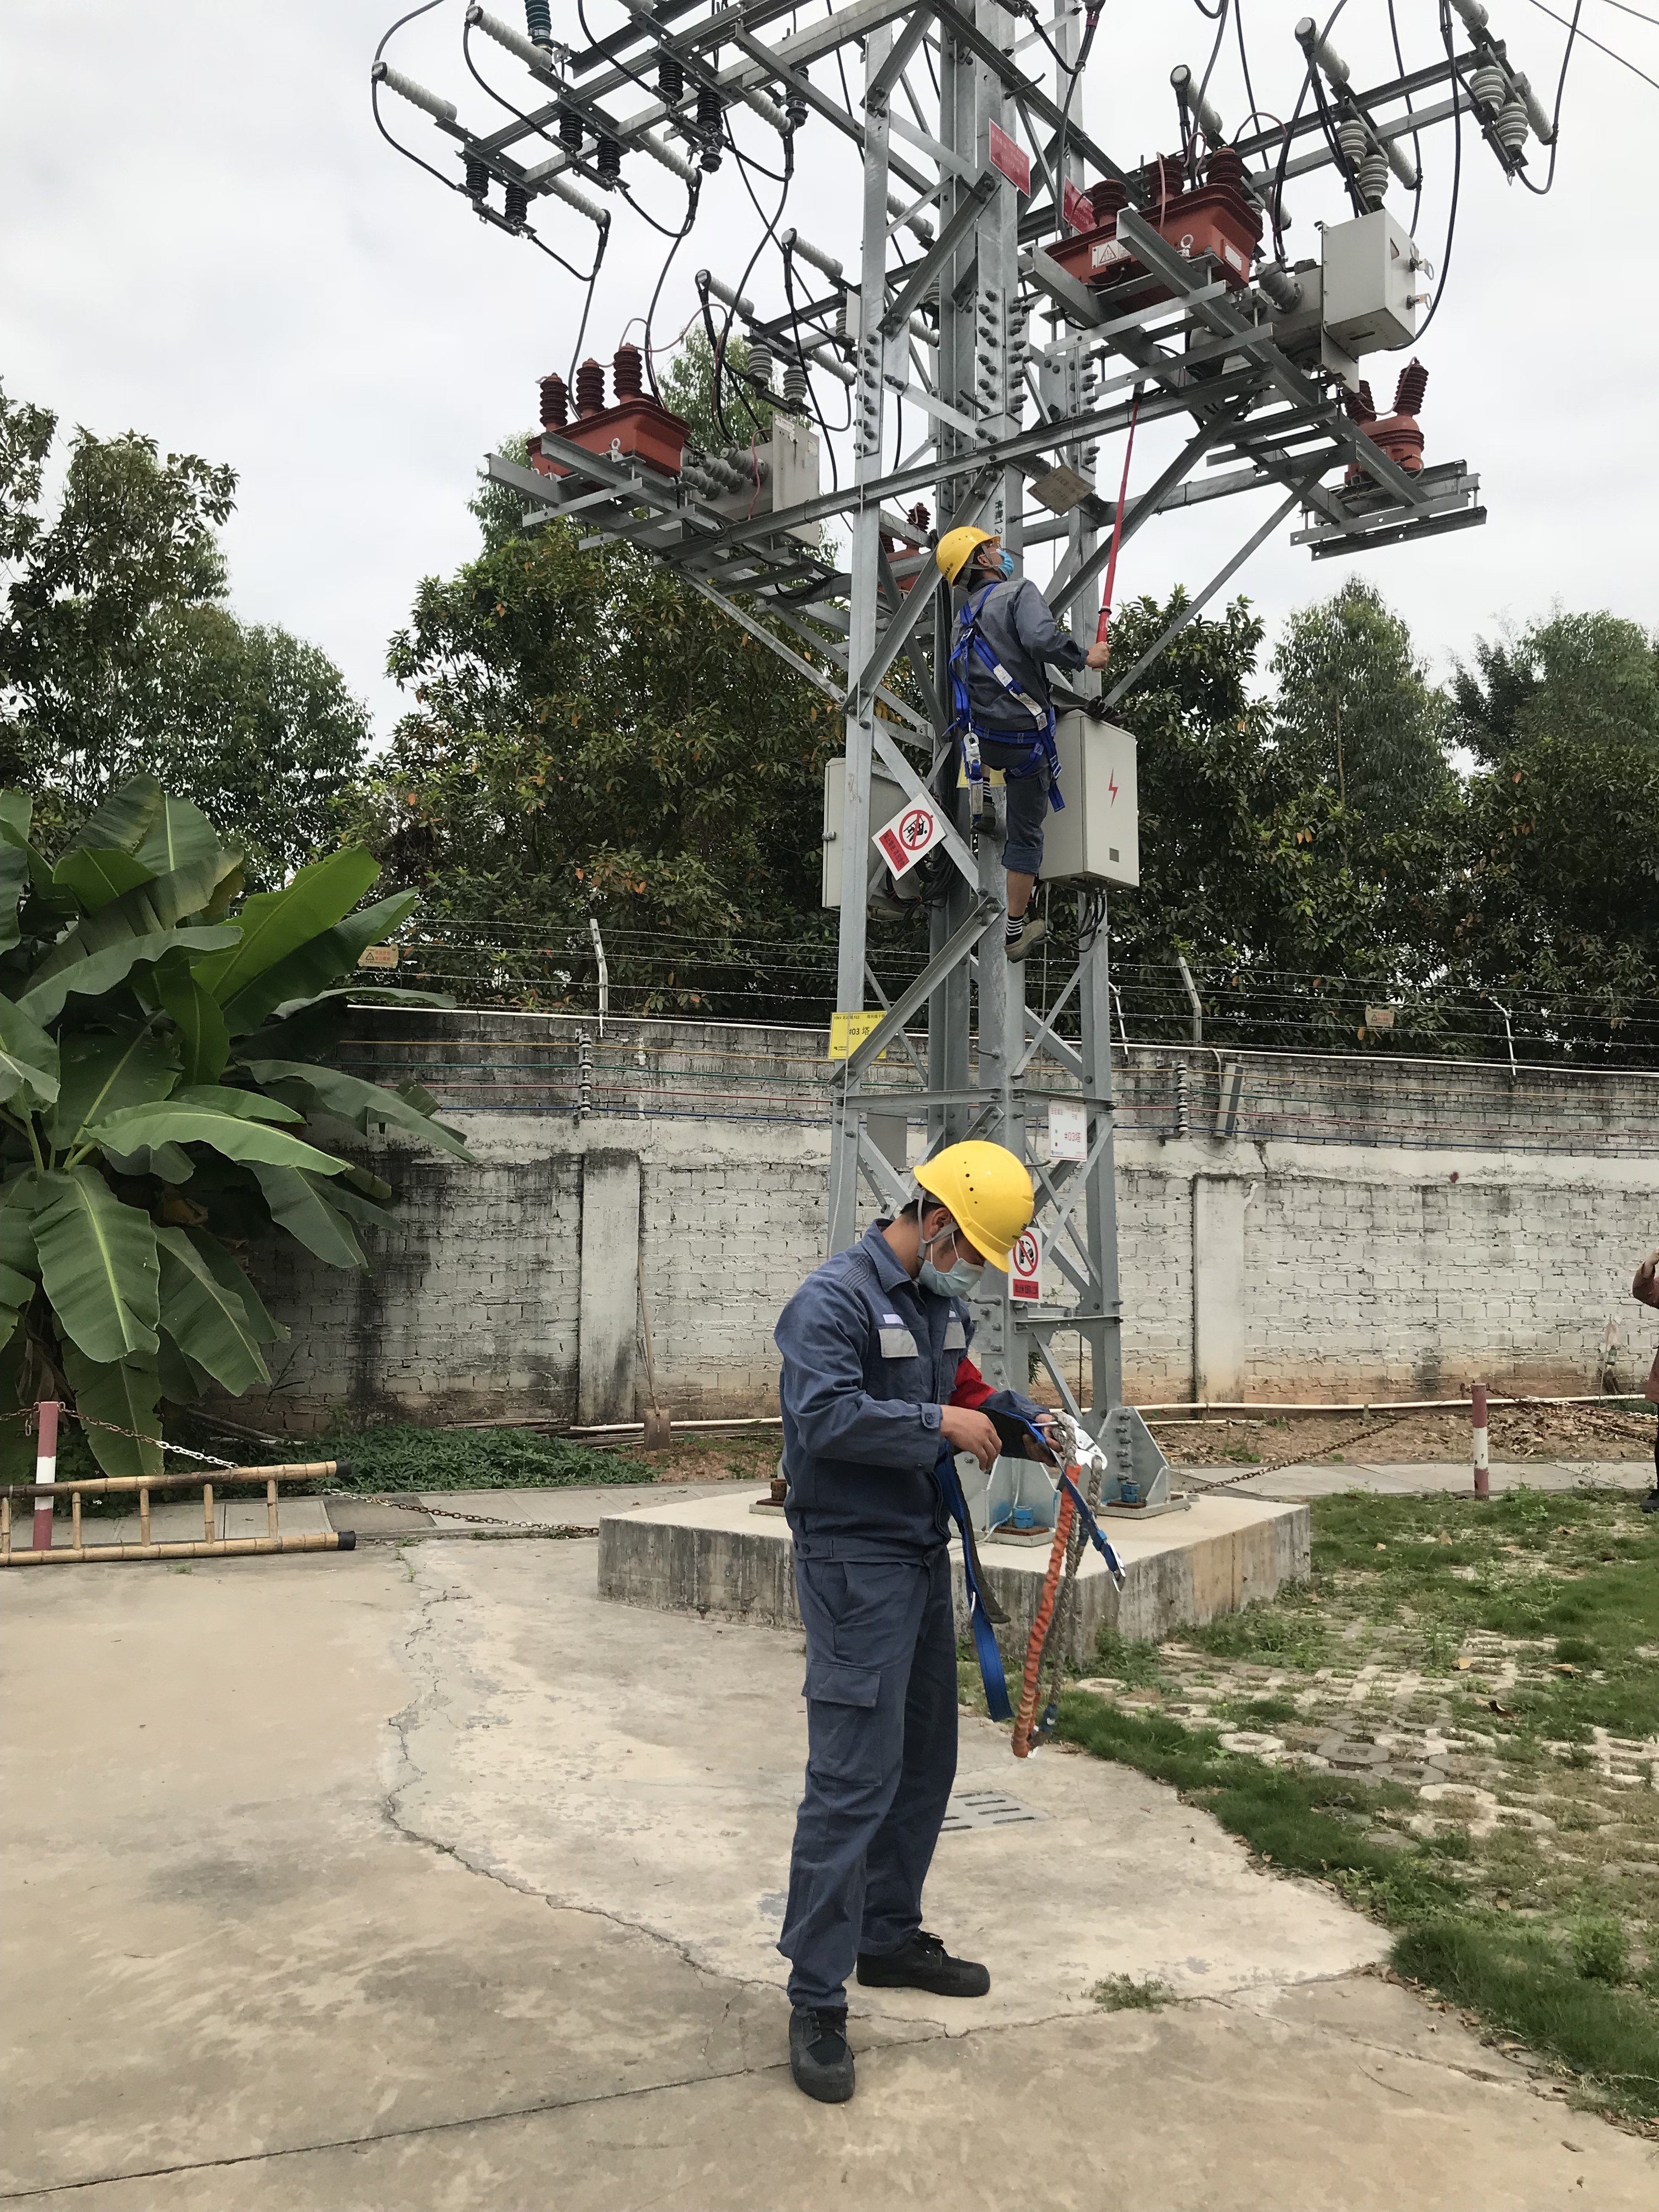downsuit: (782, 1573, 971, 1996), (972, 735, 1056, 876)
upsuit: (782, 1247, 1007, 1548), (951, 578, 1068, 725)
wrongbottom: (997, 843, 1046, 932)
